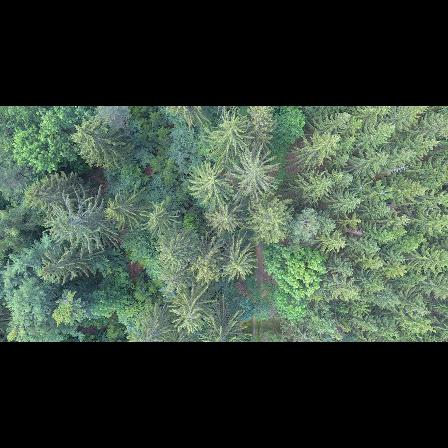Sick: (370, 183, 393, 203)
